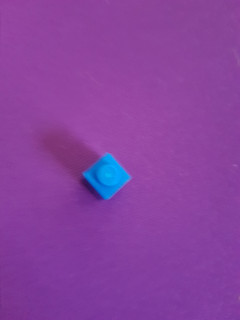1x1 blue: (77, 150, 134, 203)
